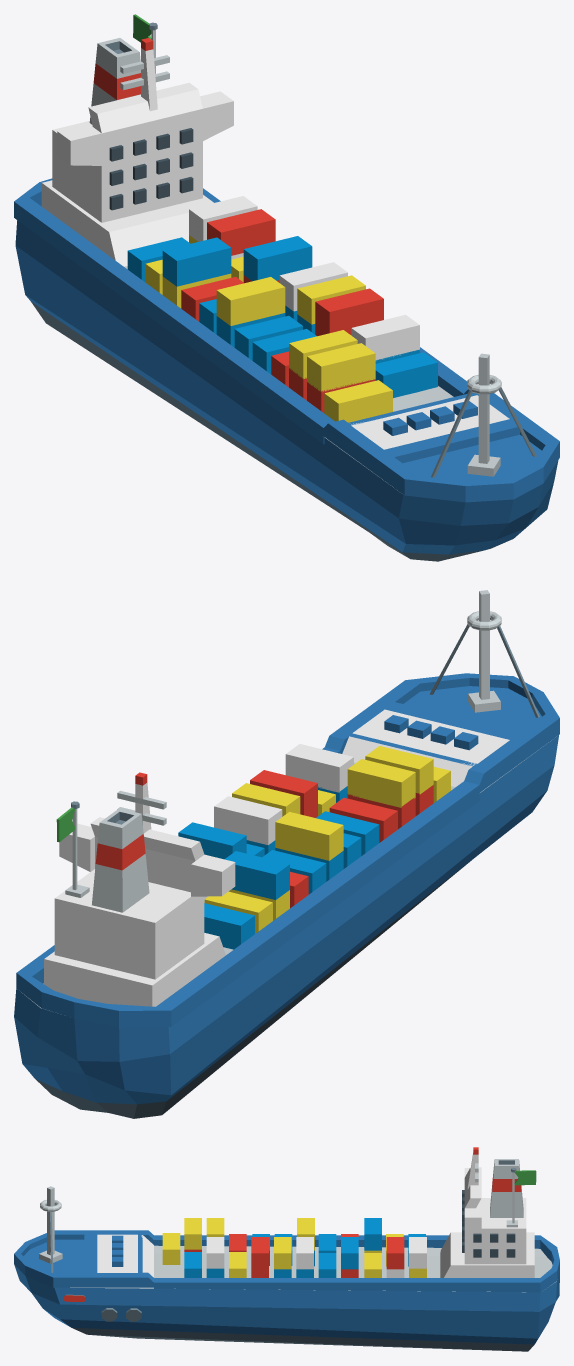
File: container_ship_blue.glb
3 views of the same model, one above another, from view 1: azimuth 30°, elevation 25°; view 2: azimuth 150°, elevation 25°; view 3: azimuth 270°, elevation 25° (orthographic). The views are drawn at different scales.
Parts seen in each view (by area): view 1: group2024440113, group582159379, group425647546, group1490881220, group708609790, group1429872227, group620926883, group1881423126, group645928749, group868781494, group1639735897, group774917317 (+18 smaller); view 2: group2024440113, group582159379, group1490881220, group425647546, group708609790, group1639735897, group1881423126, group1701587960, group2133724846, group2032867843, group645928749, group1224037610 (+16 smaller); view 3: group2024440113, group582159379, group1340366337, group1490881220, group708609790, group1639735897, group425647546, group122146175, group2133724846, group1723449364, group645928749, group774917317 (+20 smaller).
Boxes of the visible parts, x1,y1,x2,y2 form: group2024440113: (15, 220, 558, 561); group582159379: (332, 392, 559, 502); group425647546: (14, 197, 334, 444); group1490881220: (52, 120, 202, 222); group708609790: (41, 180, 213, 266); group1429872227: (88, 82, 202, 133); group620926883: (101, 109, 202, 165); group1881423126: (216, 277, 285, 325); group645928749: (162, 237, 231, 286); group868781494: (307, 343, 375, 391); group1639735897: (89, 38, 140, 124); group774917317: (243, 236, 312, 281); group2024440113: (14, 735, 558, 1118); group582159379: (334, 673, 559, 785); group1490881220: (54, 869, 204, 979); group425647546: (156, 781, 479, 1026); group708609790: (44, 933, 225, 1006); group1639735897: (92, 808, 149, 912); group1881423126: (275, 812, 343, 860); group1701587960: (347, 759, 415, 807); group2133724846: (285, 744, 353, 792); group2032867843: (214, 796, 282, 844); group645928749: (224, 851, 289, 899); group1224037610: (74, 999, 171, 1027); group2024440113: (14, 1245, 559, 1351); group582159379: (14, 1230, 142, 1287); group1340366337: (154, 1278, 540, 1292); group1490881220: (464, 1198, 526, 1264); group708609790: (440, 1232, 534, 1277); group1639735897: (490, 1159, 523, 1217); group425647546: (154, 1235, 540, 1248); group122146175: (386, 1237, 404, 1269); group2133724846: (206, 1237, 224, 1268); group1723449364: (162, 1233, 180, 1264); group645928749: (364, 1218, 381, 1250); group774917317: (341, 1237, 358, 1269).
Bounding box in the file's own units: 0.21 × 0.3813 × 0.975.
